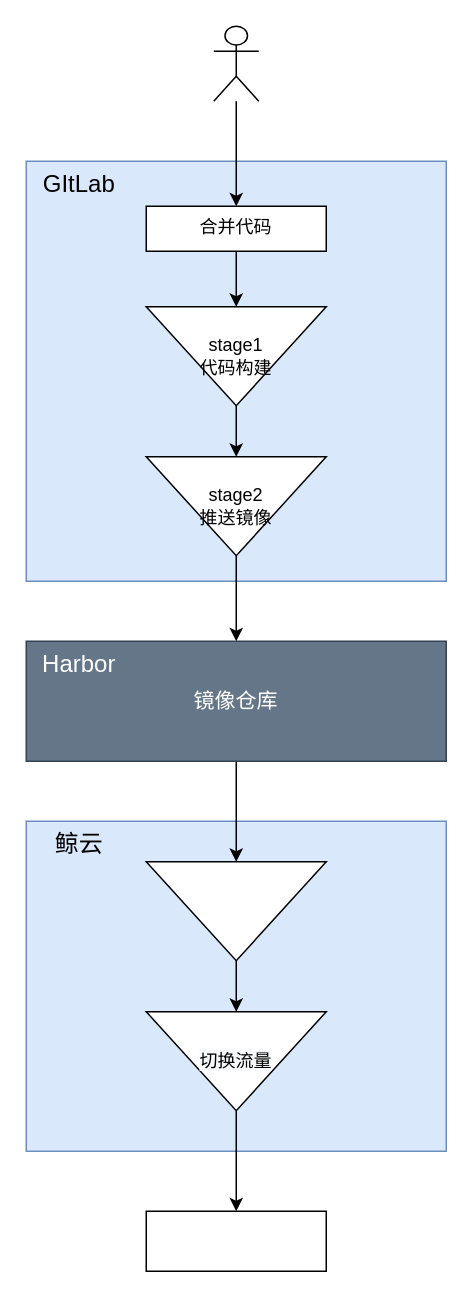
Image size: 473x1298. Some labels were removed from this diagram. Here are the shapes that lost their labels. From the top down, the centre of each, then its label:
At point 235,63: "Actor".
At point 235,910: "部署镜像".
At point 235,1240: "结束".
